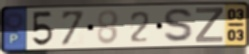2: (129, 10, 152, 44)
5: (30, 10, 55, 48)
7: (60, 9, 87, 47)
8: (96, 8, 122, 47)
S: (162, 7, 197, 45)
Z: (194, 7, 225, 44)
